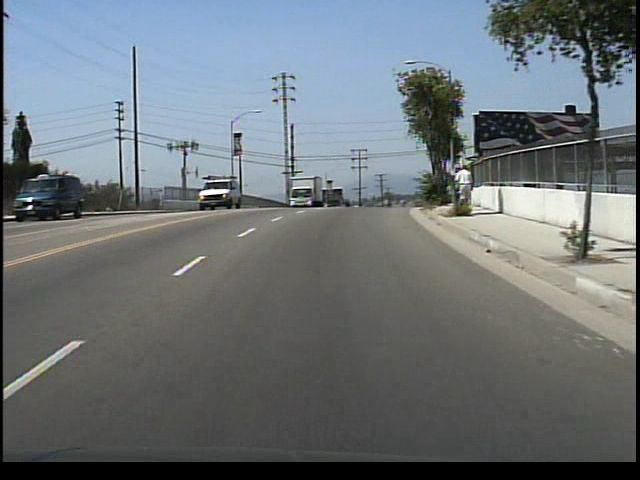person: (452, 162, 474, 199)
